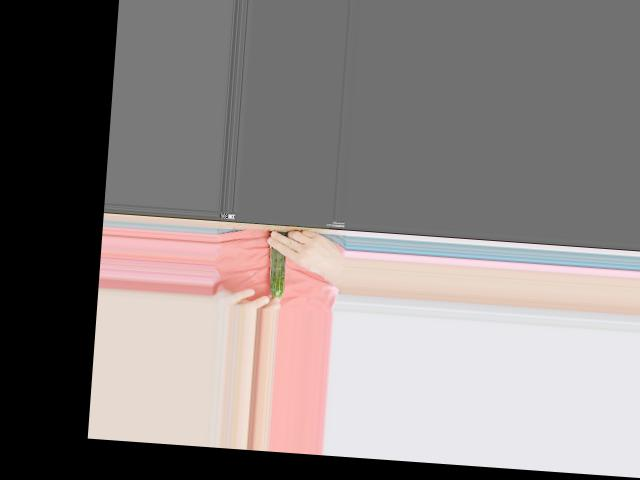cucumber: (267, 246, 287, 298)
